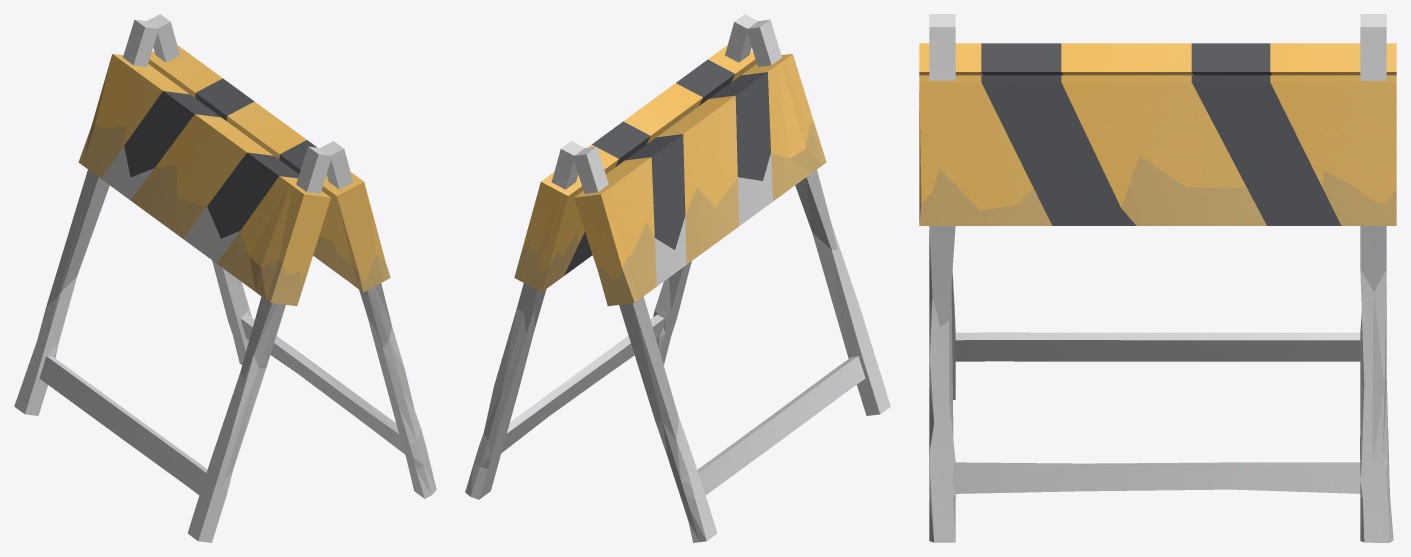
File: road_barrier_1.dae
3 renders of one model, left to right at view 1: azimuth 30°, elevation 25°; view 2: azimuth 150°, elevation 25°; view 3: azimuth 270°, elevation 25°, orthographic. The views are drawn at different scales.
Parts seen in each view (by area): view 1: road_barrier_1; view 2: road_barrier_1; view 3: road_barrier_1.
Part boxes in pixels (x1,y1,x2,y2): road_barrier_1: (14, 14, 436, 542); road_barrier_1: (465, 14, 890, 542); road_barrier_1: (919, 14, 1396, 542).
Size of the model in its own units: 0.722 by 0.9973 by 1.06.
1 material, 1 textured.
